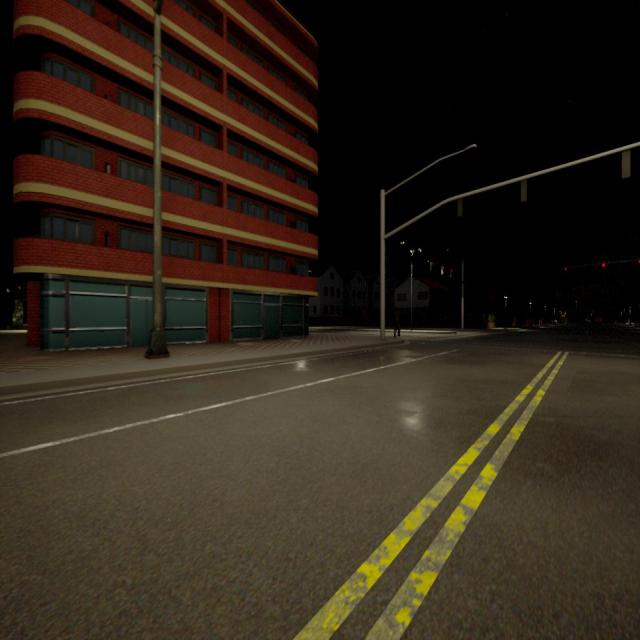Pedestrian: (393, 309, 401, 336)
Vehicle: (592, 317, 602, 324)
traffic_light: (622, 151, 630, 176), (520, 180, 526, 200), (457, 198, 463, 216), (429, 262, 433, 270), (450, 269, 453, 279), (441, 266, 444, 274), (602, 262, 605, 267), (564, 267, 567, 271), (638, 260, 640, 264)
